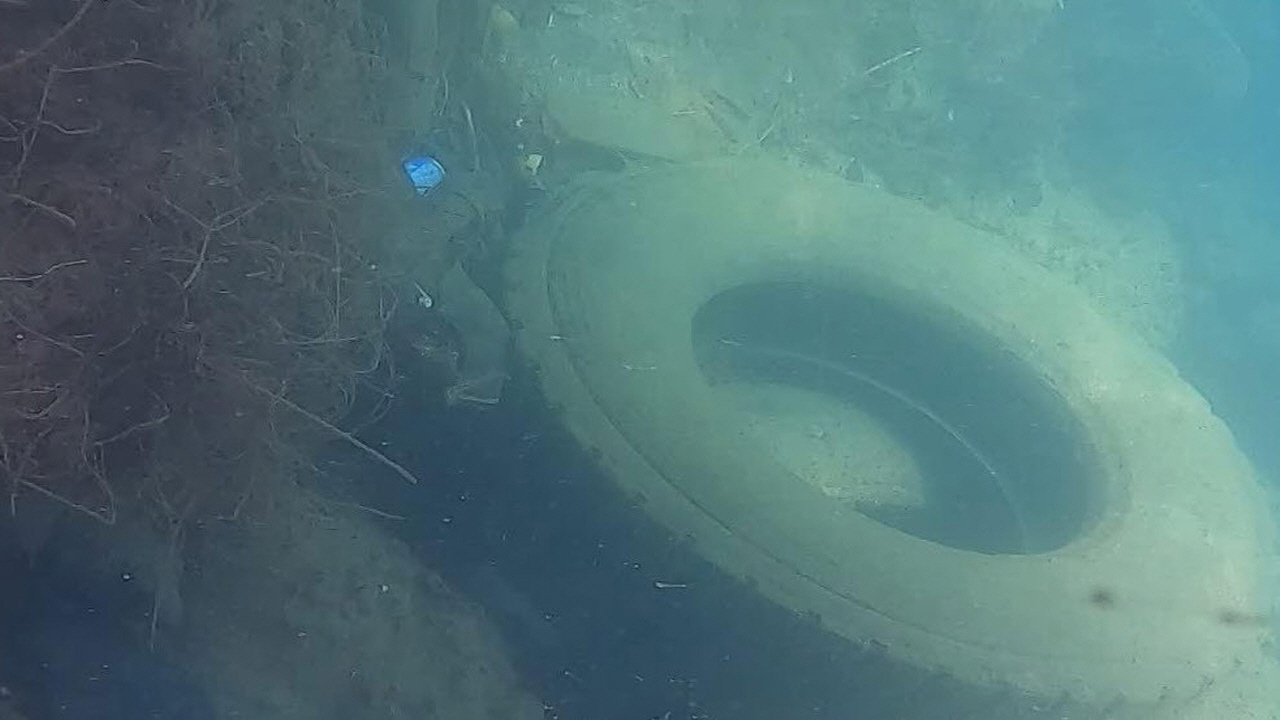tire: (503, 156, 1272, 720)
